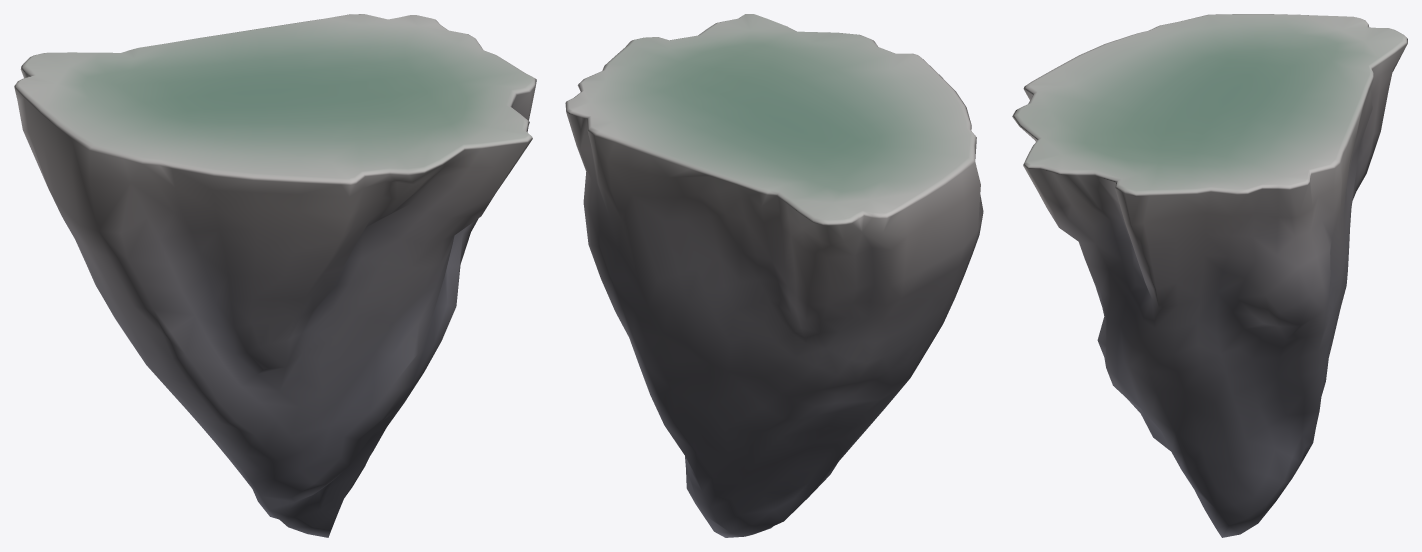
The model's file is S_IslandMedium_VarB.fbx.
The picture shows the model from 3 angles, left to right: view 1: azimuth 30°, elevation 25°; view 2: azimuth 150°, elevation 25°; view 3: azimuth 270°, elevation 25°; orthographic projection. The views are drawn at different scales.
Visible parts, largest first — view 1: IslandMedium_VarB_GEO; view 2: IslandMedium_VarB_GEO; view 3: IslandMedium_VarB_GEO.
Part boxes in pixels (<box>): IslandMedium_VarB_GEO: <box>14,14,536,537</box>; IslandMedium_VarB_GEO: <box>565,14,983,537</box>; IslandMedium_VarB_GEO: <box>1012,14,1407,537</box>.
Bounding box in the file's own units: 14.8 × 15.73 × 13.56.
